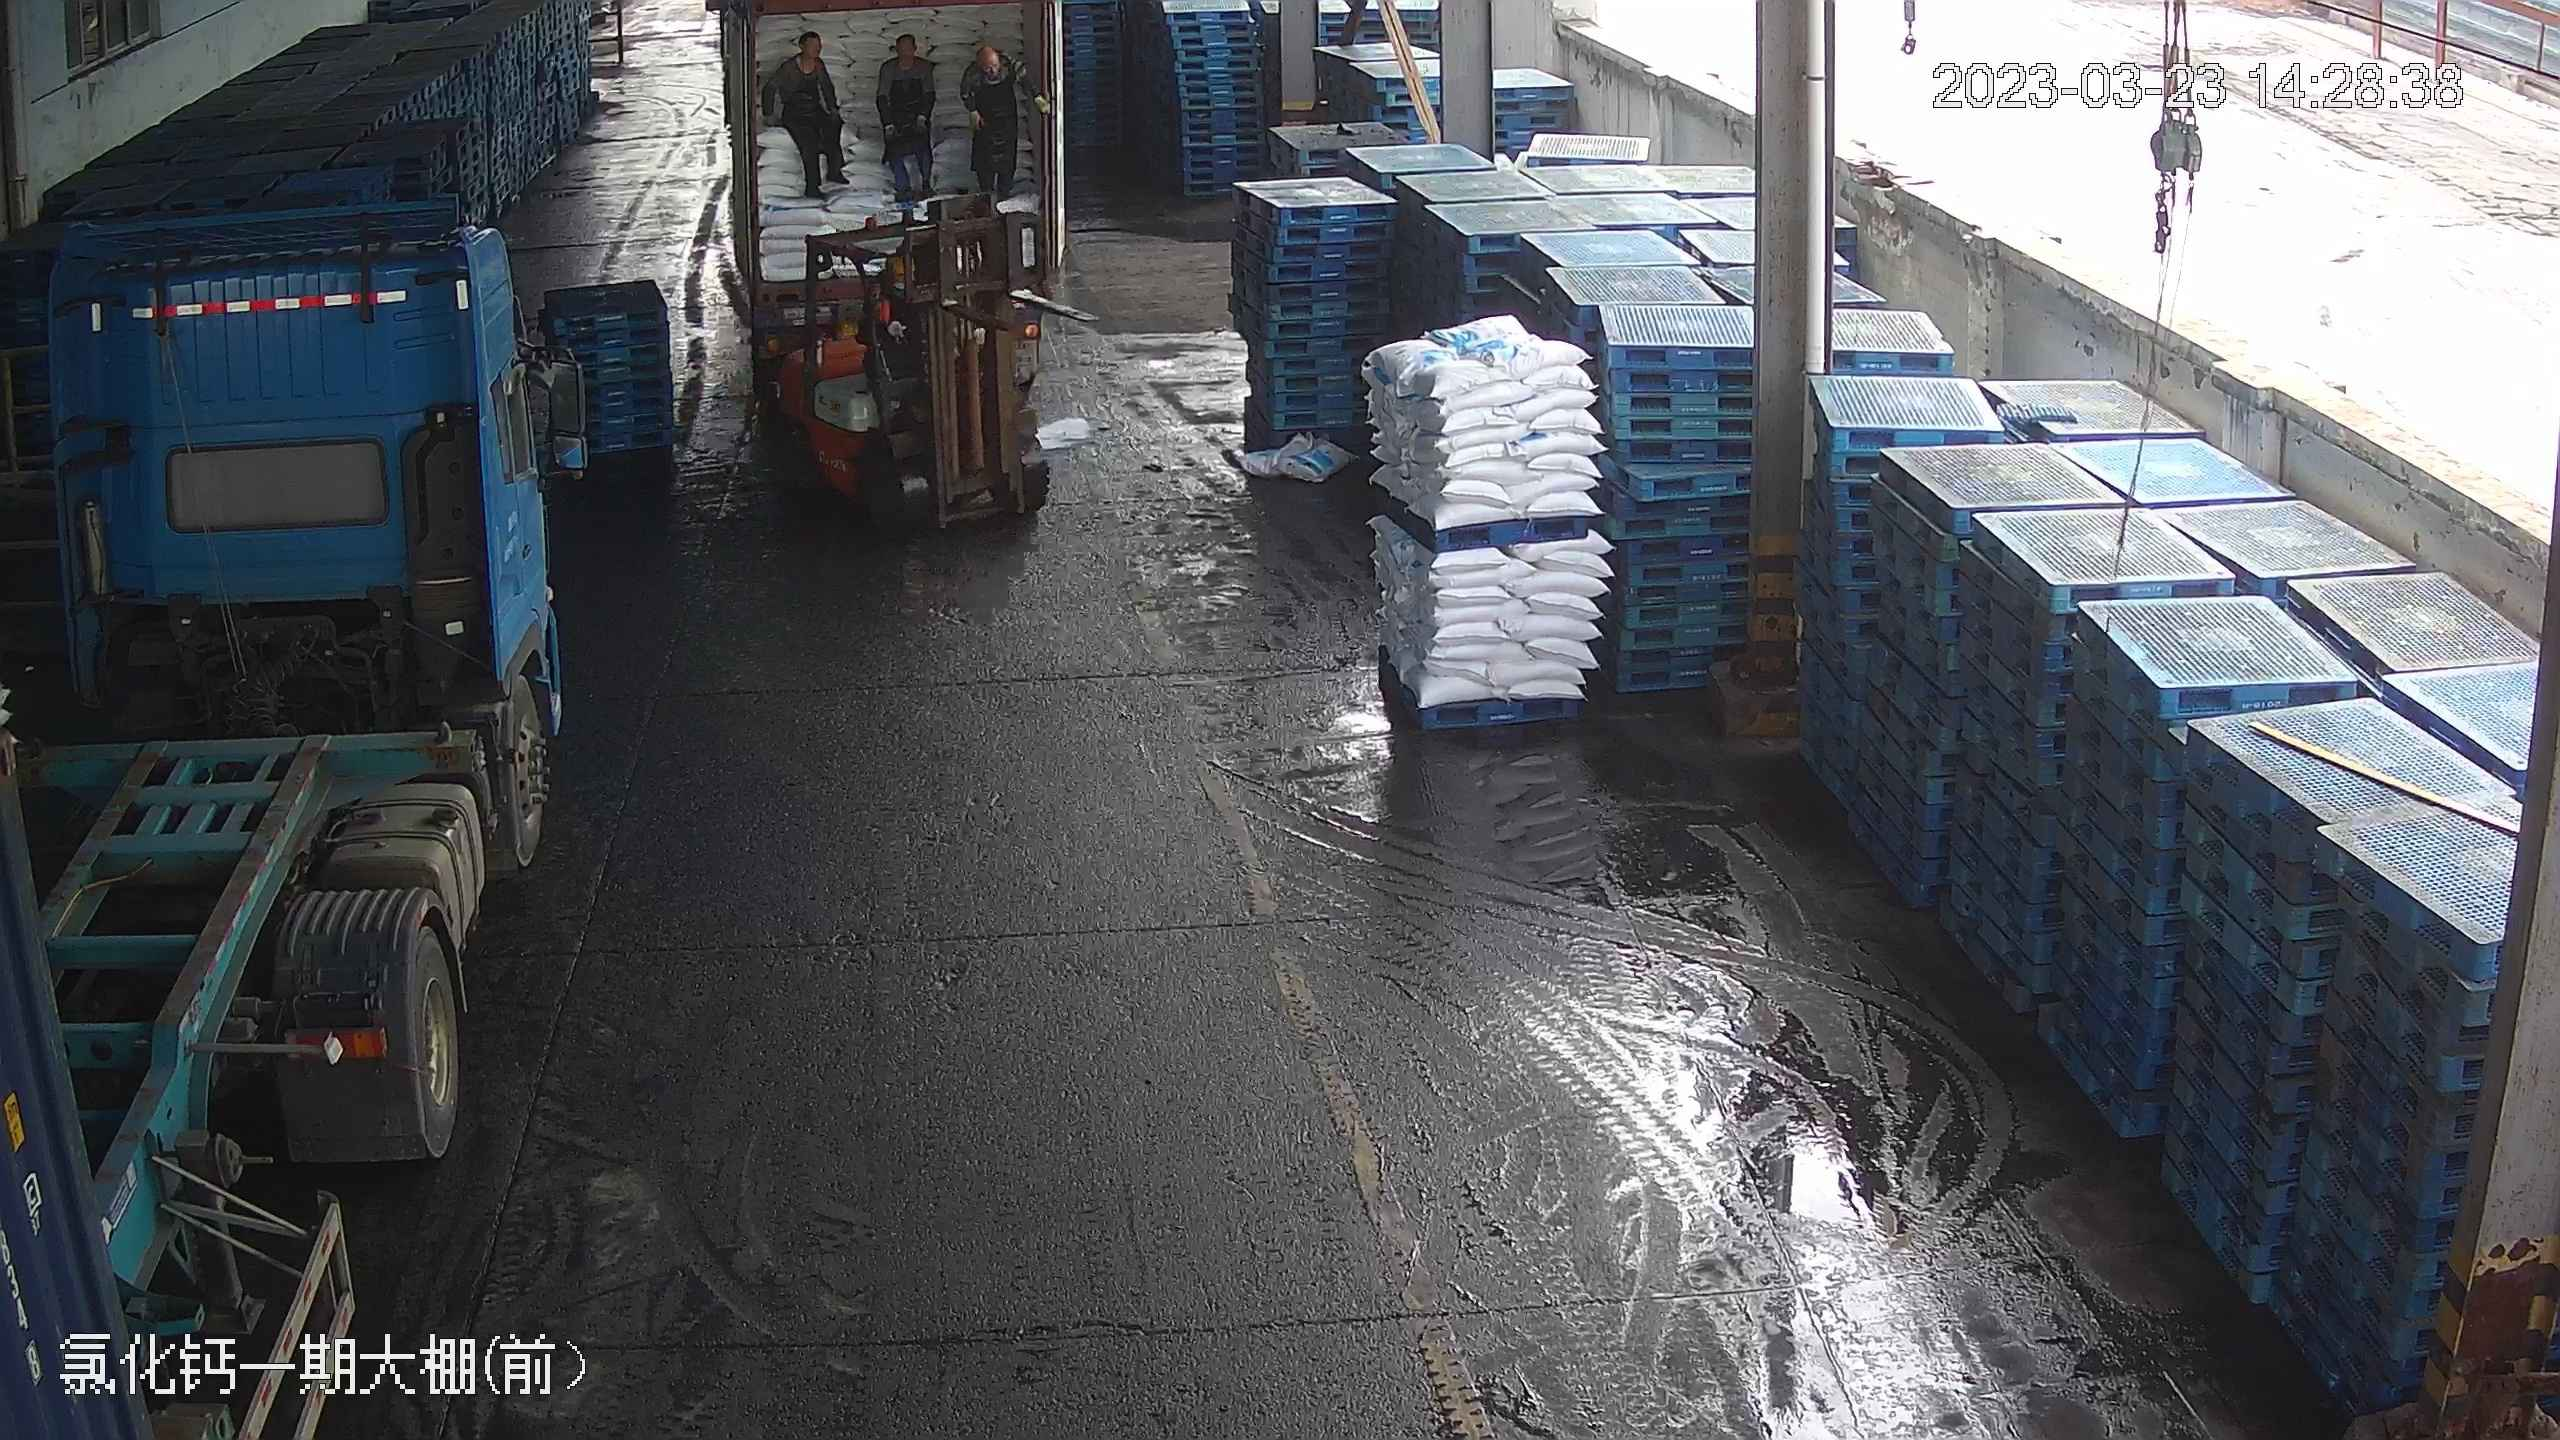head: (877, 30, 933, 94), (780, 33, 835, 95), (966, 42, 1013, 93)
people: (781, 32, 849, 198), (874, 28, 937, 208), (961, 34, 1014, 197)
truck: (1, 198, 595, 1440)
